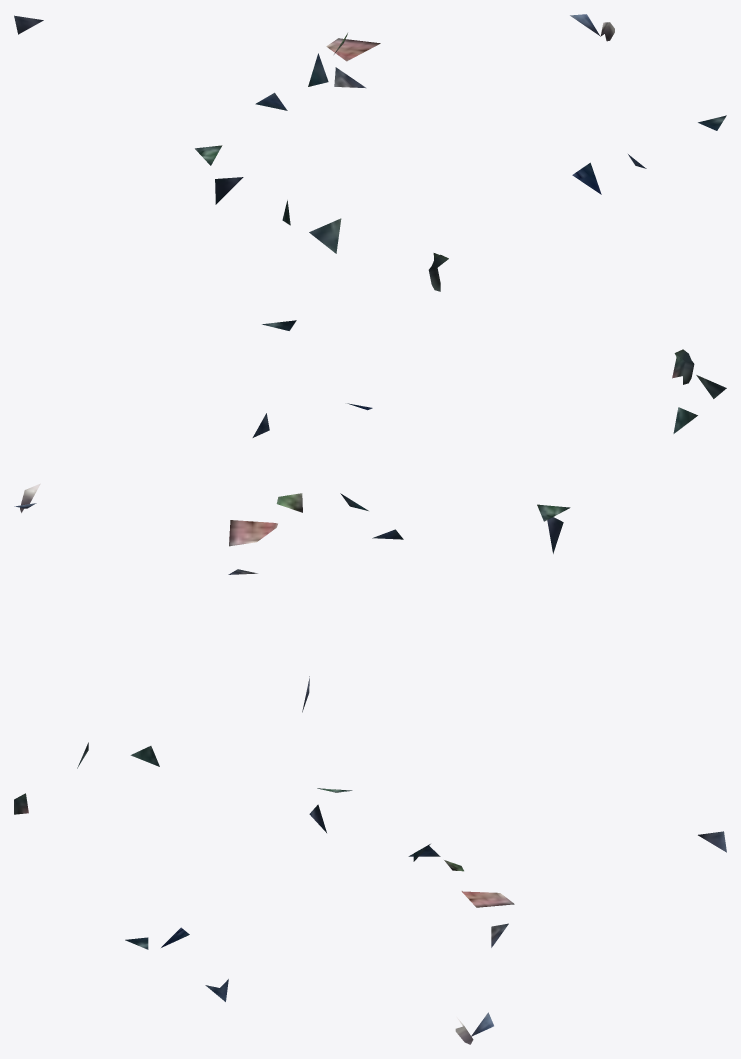
The picture shows the model from 3 angles, top to bottom: view 1: azimuth 30°, elevation 25°; view 2: azimuth 150°, elevation 25°; view 3: azimuth 270°, elevation 25°; orthographic projection. The views are drawn at different scales.
Parts seen in each view (by area): view 1: 30436272704361715712_1; view 2: 30436272704361715712_1; view 3: 30436272704361715712_1.
Part boxes in pixels (x1=…): 30436272704361715712_1: x1=14, y1=14, x2=726, y2=291; 30436272704361715712_1: x1=14, y1=320, x2=726, y2=712; 30436272704361715712_1: x1=14, y1=742, x2=726, y2=1044.
Bounding box in the file's own units: 26.84 × 5.08 × 36.87.
Materials: 1 (1 with a texture image).
